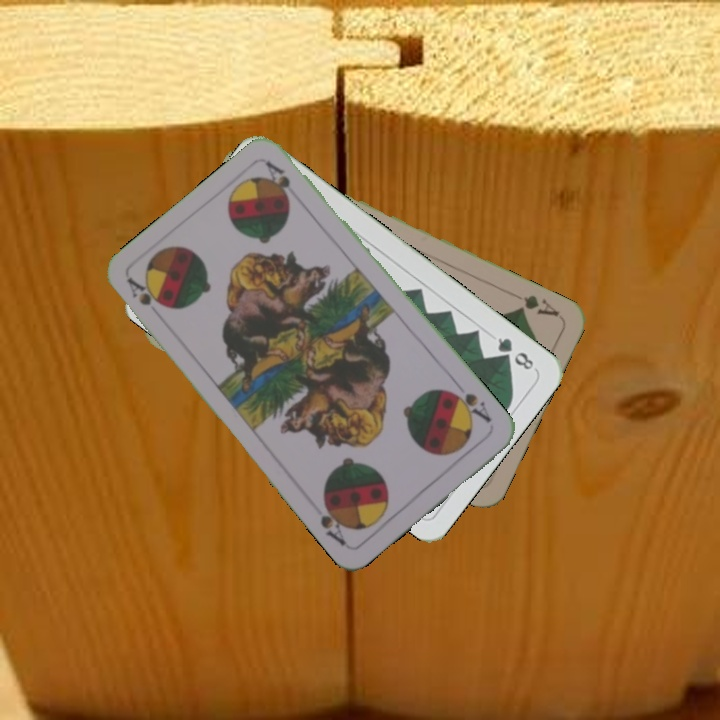G8: (493, 333, 537, 373)
GA: (507, 288, 562, 319)
SA: (445, 386, 494, 426), (123, 273, 168, 311)
